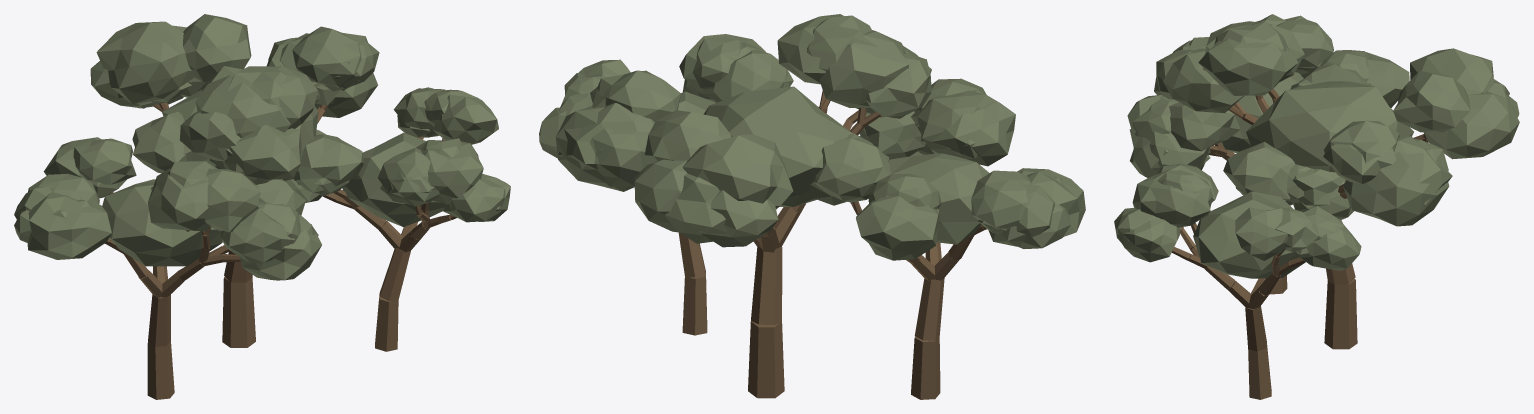
3 views of the same model, side by side, from view 1: azimuth 30°, elevation 25°; view 2: azimuth 150°, elevation 25°; view 3: azimuth 270°, elevation 25° (orthographic). The views are drawn at different scales.
Visible parts, largest first — view 1: K12c; view 2: K12c; view 3: K12c.
Part boxes in pixels (<box>): K12c: <box>14,14,510,399</box>; K12c: <box>539,14,1085,399</box>; K12c: <box>1114,14,1519,399</box>.
Size of the model in its own units: 15.74 by 10.02 by 12.11.
